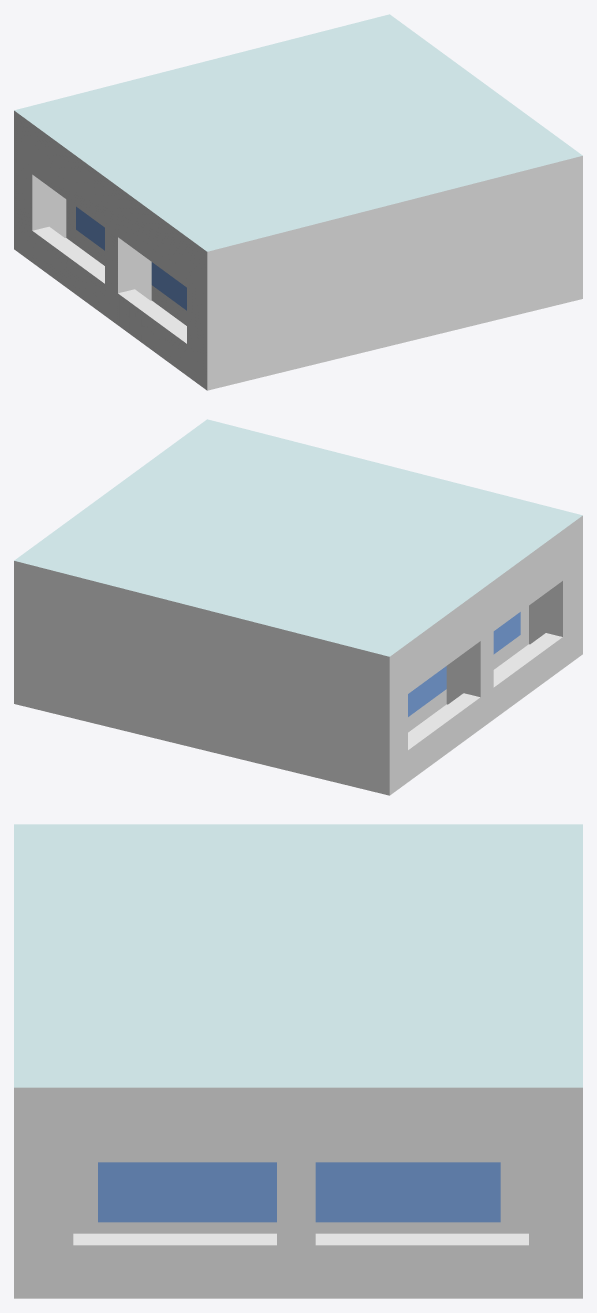
File: daikyou.glb
3 views of the same model, one above another, from view 1: azimuth 30°, elevation 25°; view 2: azimuth 150°, elevation 25°; view 3: azimuth 270°, elevation 25° (orthographic). The views are drawn at different scales.
Parts seen in each view (by area): view 1: 大教室; view 2: 大教室; view 3: 大教室.
Boxes of the visible parts, <box> form: 大教室: <box>14,14,582,390</box>; 大教室: <box>14,419,582,795</box>; 大教室: <box>14,824,582,1298</box>.
Bounding box in the file's own units: 4.55 × 1.66 × 4.06.
Materials: 1 (1 with a texture image).
